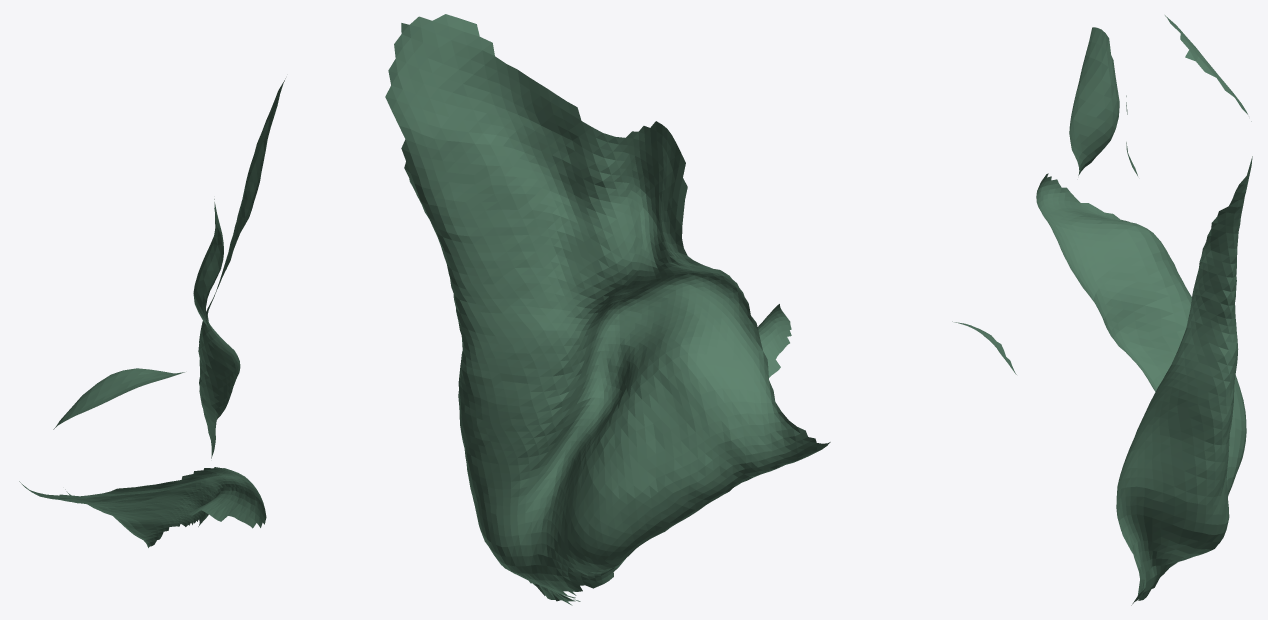
File: lh_lateralorbitofrontal.glb
The picture shows the model from 3 angles, left to right: view 1: azimuth 30°, elevation 25°; view 2: azimuth 150°, elevation 25°; view 3: azimuth 270°, elevation 25°; orthographic projection. The views are drawn at different scales.
Visible parts, largest first — view 1: world; view 2: world; view 3: world.
Boxes of the visible parts, x1,y1,x2,y2 form: world: (19,78,285,547); world: (385,14,830,605); world: (952,15,1252,605).
Bounding box in the file's own units: 40.46 × 57.22 × 32.48.
